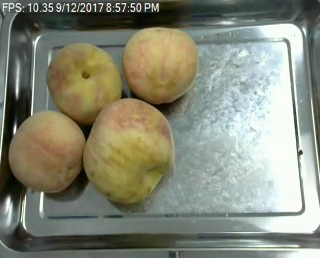Peach: (83, 98, 175, 205), (8, 109, 86, 191), (46, 43, 124, 122), (123, 26, 199, 102)
